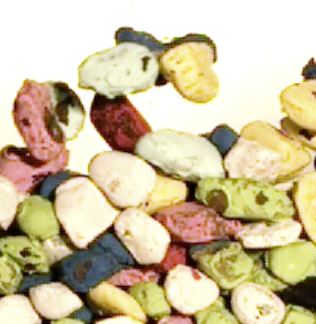black: (165, 34, 222, 67)
blue: (54, 233, 129, 292), (112, 26, 165, 87), (40, 171, 81, 197), (209, 124, 236, 158), (16, 273, 53, 292)
green: (134, 128, 224, 183), (77, 43, 160, 98), (194, 177, 297, 221), (188, 242, 254, 291), (265, 241, 316, 287), (15, 196, 60, 241), (52, 81, 84, 142), (1, 238, 49, 274), (128, 282, 171, 319)
pink: (13, 79, 66, 163), (155, 202, 246, 243), (1, 144, 70, 195)
red: (90, 91, 151, 154)
white: (53, 175, 120, 250), (88, 151, 154, 208), (114, 207, 171, 265), (165, 265, 219, 313), (225, 138, 279, 184), (229, 282, 282, 324), (29, 281, 84, 320), (239, 221, 303, 250)
yellow: (221, 121, 314, 184), (160, 42, 220, 104), (87, 282, 149, 322), (138, 173, 188, 215)
